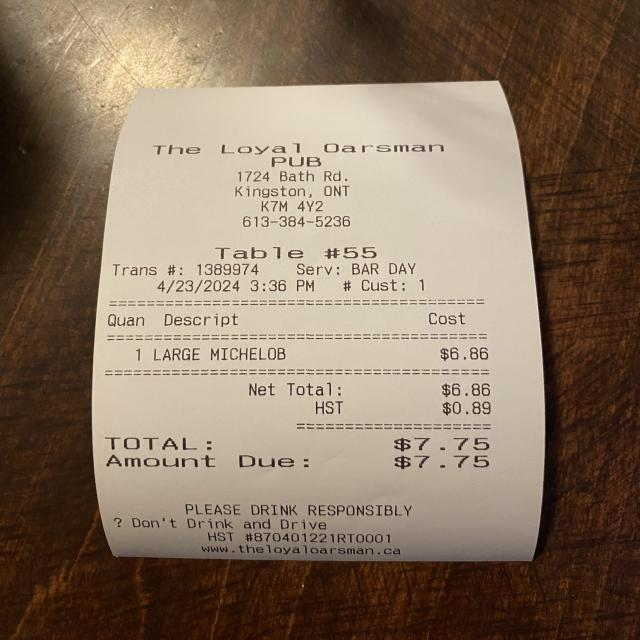item: (146, 340, 496, 369)
store_name: (145, 138, 451, 170)
total_amount: (100, 431, 498, 456)
transaction_date: (152, 275, 246, 301)
